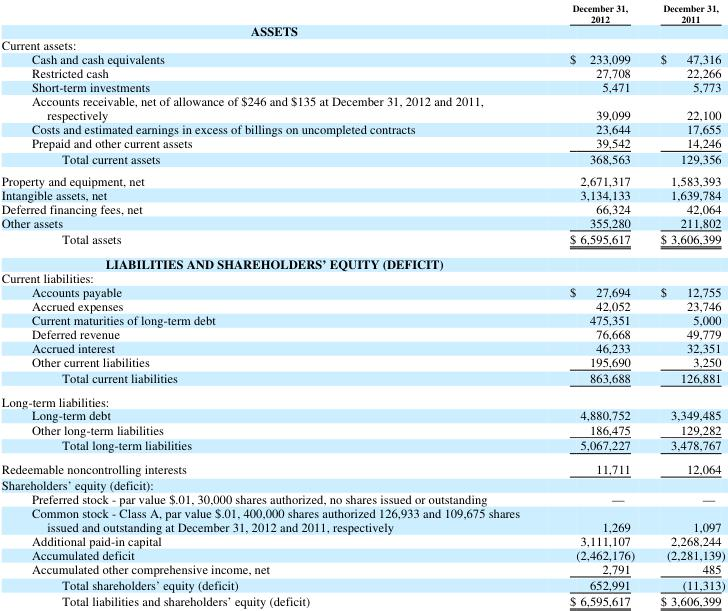table: (0, 1, 724, 608)
table column: (0, 1, 544, 608), (544, 1, 646, 608), (646, 1, 724, 608)
table column header: (0, 1, 724, 23)
table projected row header: (0, 250, 724, 270), (0, 388, 724, 407), (0, 476, 724, 491), (0, 23, 724, 37), (0, 37, 724, 51), (0, 270, 724, 284)
table row: (0, 93, 724, 121), (0, 505, 724, 533), (0, 1, 724, 23), (0, 229, 724, 250), (0, 250, 724, 270), (0, 436, 724, 456), (0, 456, 724, 476), (0, 150, 724, 169), (0, 369, 724, 388), (0, 388, 724, 407), (0, 169, 724, 186), (0, 591, 724, 608), (0, 575, 724, 591), (0, 135, 724, 150), (0, 214, 724, 229), (0, 354, 724, 369), (0, 421, 724, 436), (0, 476, 724, 491), (0, 560, 724, 575), (0, 23, 724, 37), (0, 37, 724, 51), (0, 51, 724, 65), (0, 65, 724, 79), (0, 79, 724, 93), (0, 121, 724, 135), (0, 186, 724, 200), (0, 200, 724, 214), (0, 270, 724, 284), (0, 284, 724, 298), (0, 298, 724, 312), (0, 312, 724, 326), (0, 326, 724, 340), (0, 340, 724, 354), (0, 407, 724, 421), (0, 491, 724, 505), (0, 533, 724, 547), (0, 547, 724, 560)
